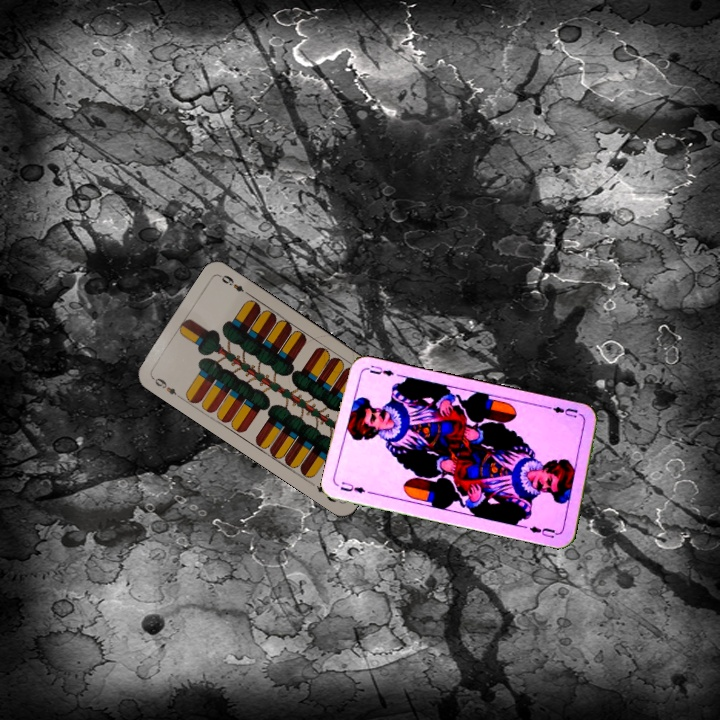E9: (148, 373, 184, 401)
EU: (545, 402, 580, 420), (336, 477, 368, 496)
